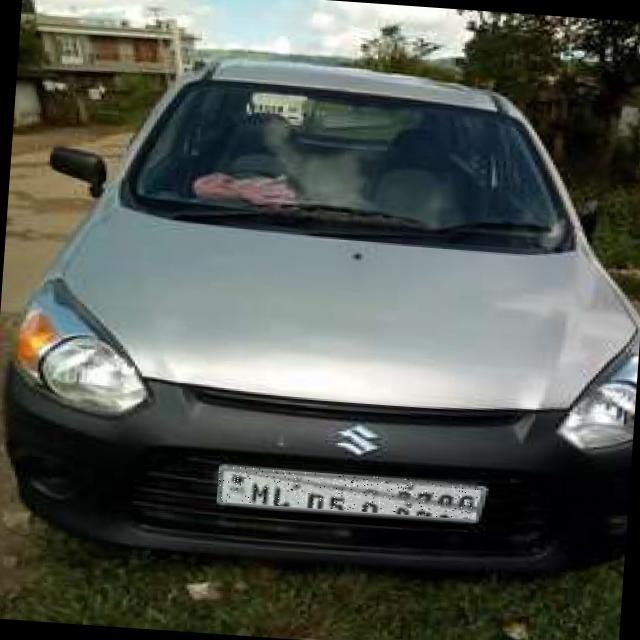Plate: (217, 467, 479, 521)
